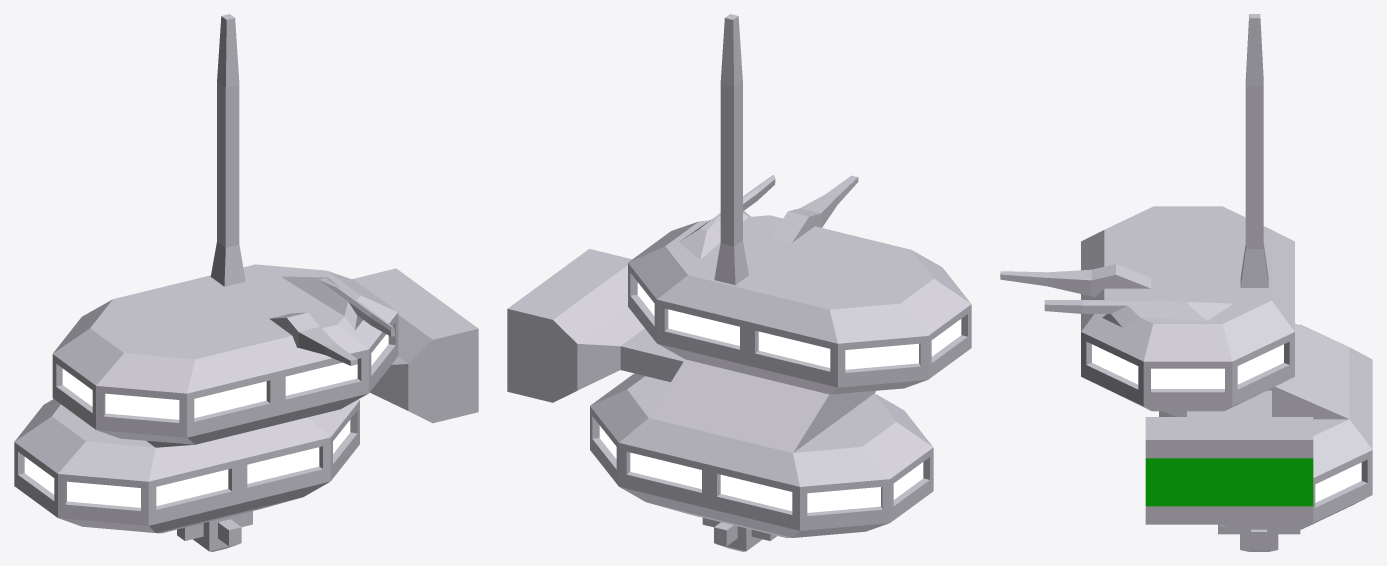
File: Side Bridge.001.fbx
3 views of the same model, side by side, from view 1: azimuth 30°, elevation 25°; view 2: azimuth 150°, elevation 25°; view 3: azimuth 270°, elevation 25° (orthographic). The views are drawn at different scales.
Visible parts, largest first — view 1: Side Bridge.001; view 2: Side Bridge.001; view 3: Side Bridge.001.
Boxes of the visible parts, box(x1,y1,x2,y2) form: Side Bridge.001: box(14, 14, 478, 551); Side Bridge.001: box(507, 14, 971, 551); Side Bridge.001: box(1000, 14, 1372, 551).
Bounding box in the file's own units: 1.37 × 1.8 × 1.13.
